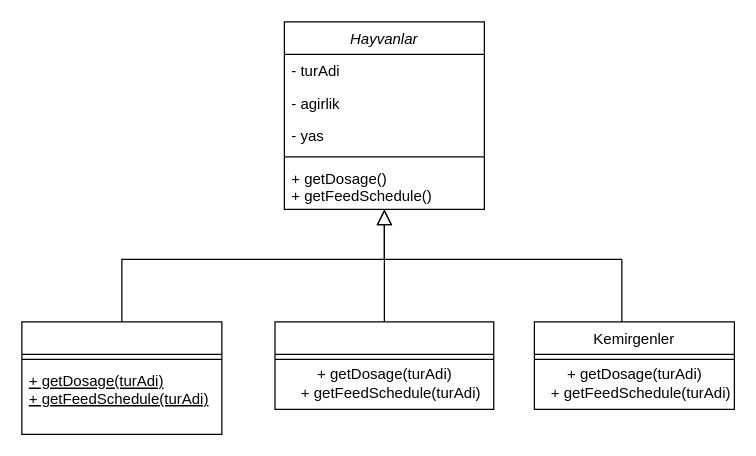
Some shapes in this 756 by 456 pixel diagram are drawn without their labels. The shapes that lost their labels are listed below. From the top down, each one's box as (x1, y1, x2, y2) in pixels, then its label:
(21, 321, 222, 434): Atlar
(274, 321, 494, 409): Kedigiller
